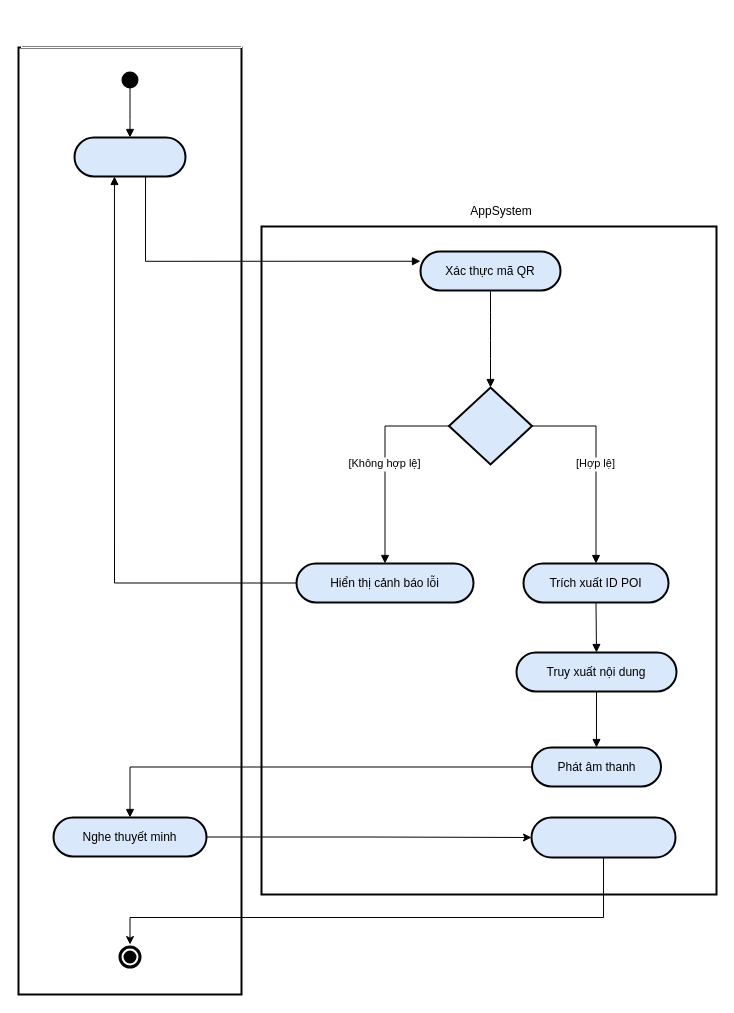
Some shapes in this 734 by 1013 pixel diagram are drawn without their labels. Each missing label, with the centre of its shape:
"Lưu lịch sử nghe" belongs at (x=603, y=837).
"Mã hệ thống?" belongs at (x=490, y=425).
"Quét mã QR" belongs at (x=129, y=156).
"Visitor" belongs at (x=131, y=32).
